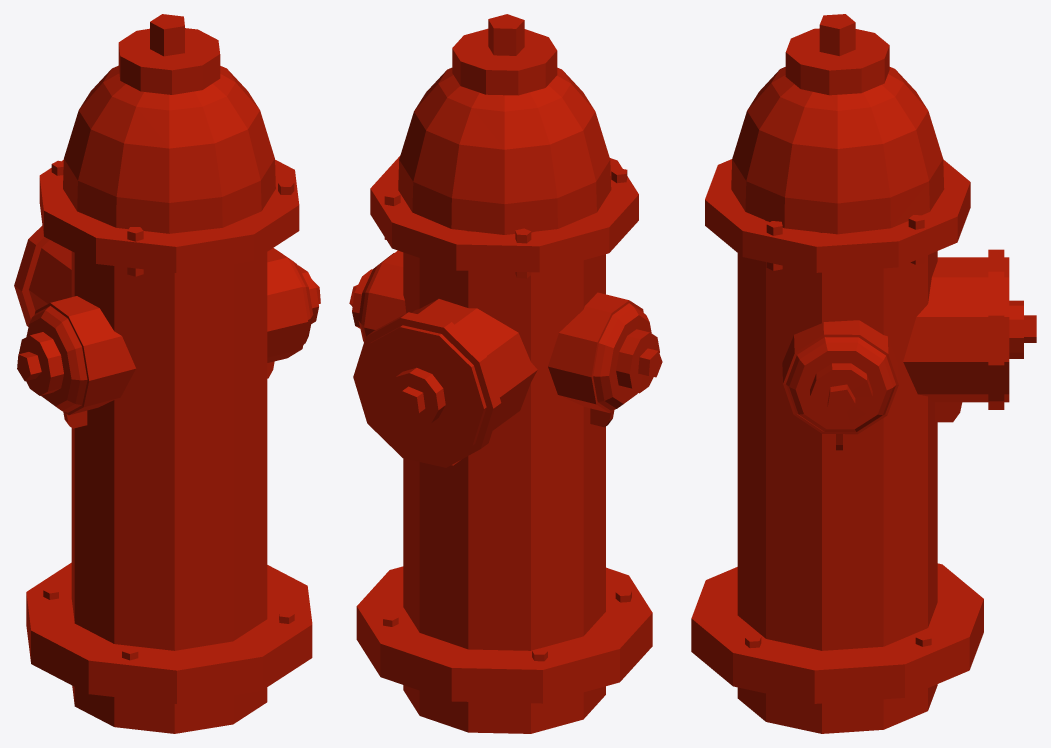
The model's file is eNPaSEPrst8.glb.
3 renders of one model, left to right at view 1: azimuth 30°, elevation 25°; view 2: azimuth 150°, elevation 25°; view 3: azimuth 270°, elevation 25°, orthographic.
Parts seen in each view (by area): view 1: FireHydrant; view 2: FireHydrant; view 3: FireHydrant.
Part boxes in pixels (x1,y1,x2,y2): FireHydrant: [14, 14, 320, 733]; FireHydrant: [349, 14, 662, 733]; FireHydrant: [691, 14, 1036, 733].
Bounding box in the file's own units: 0.4602 × 1 × 0.4667.
